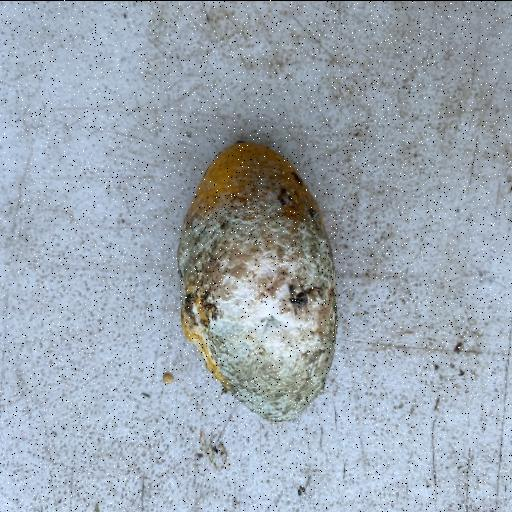Waste: (175, 139, 338, 423)
